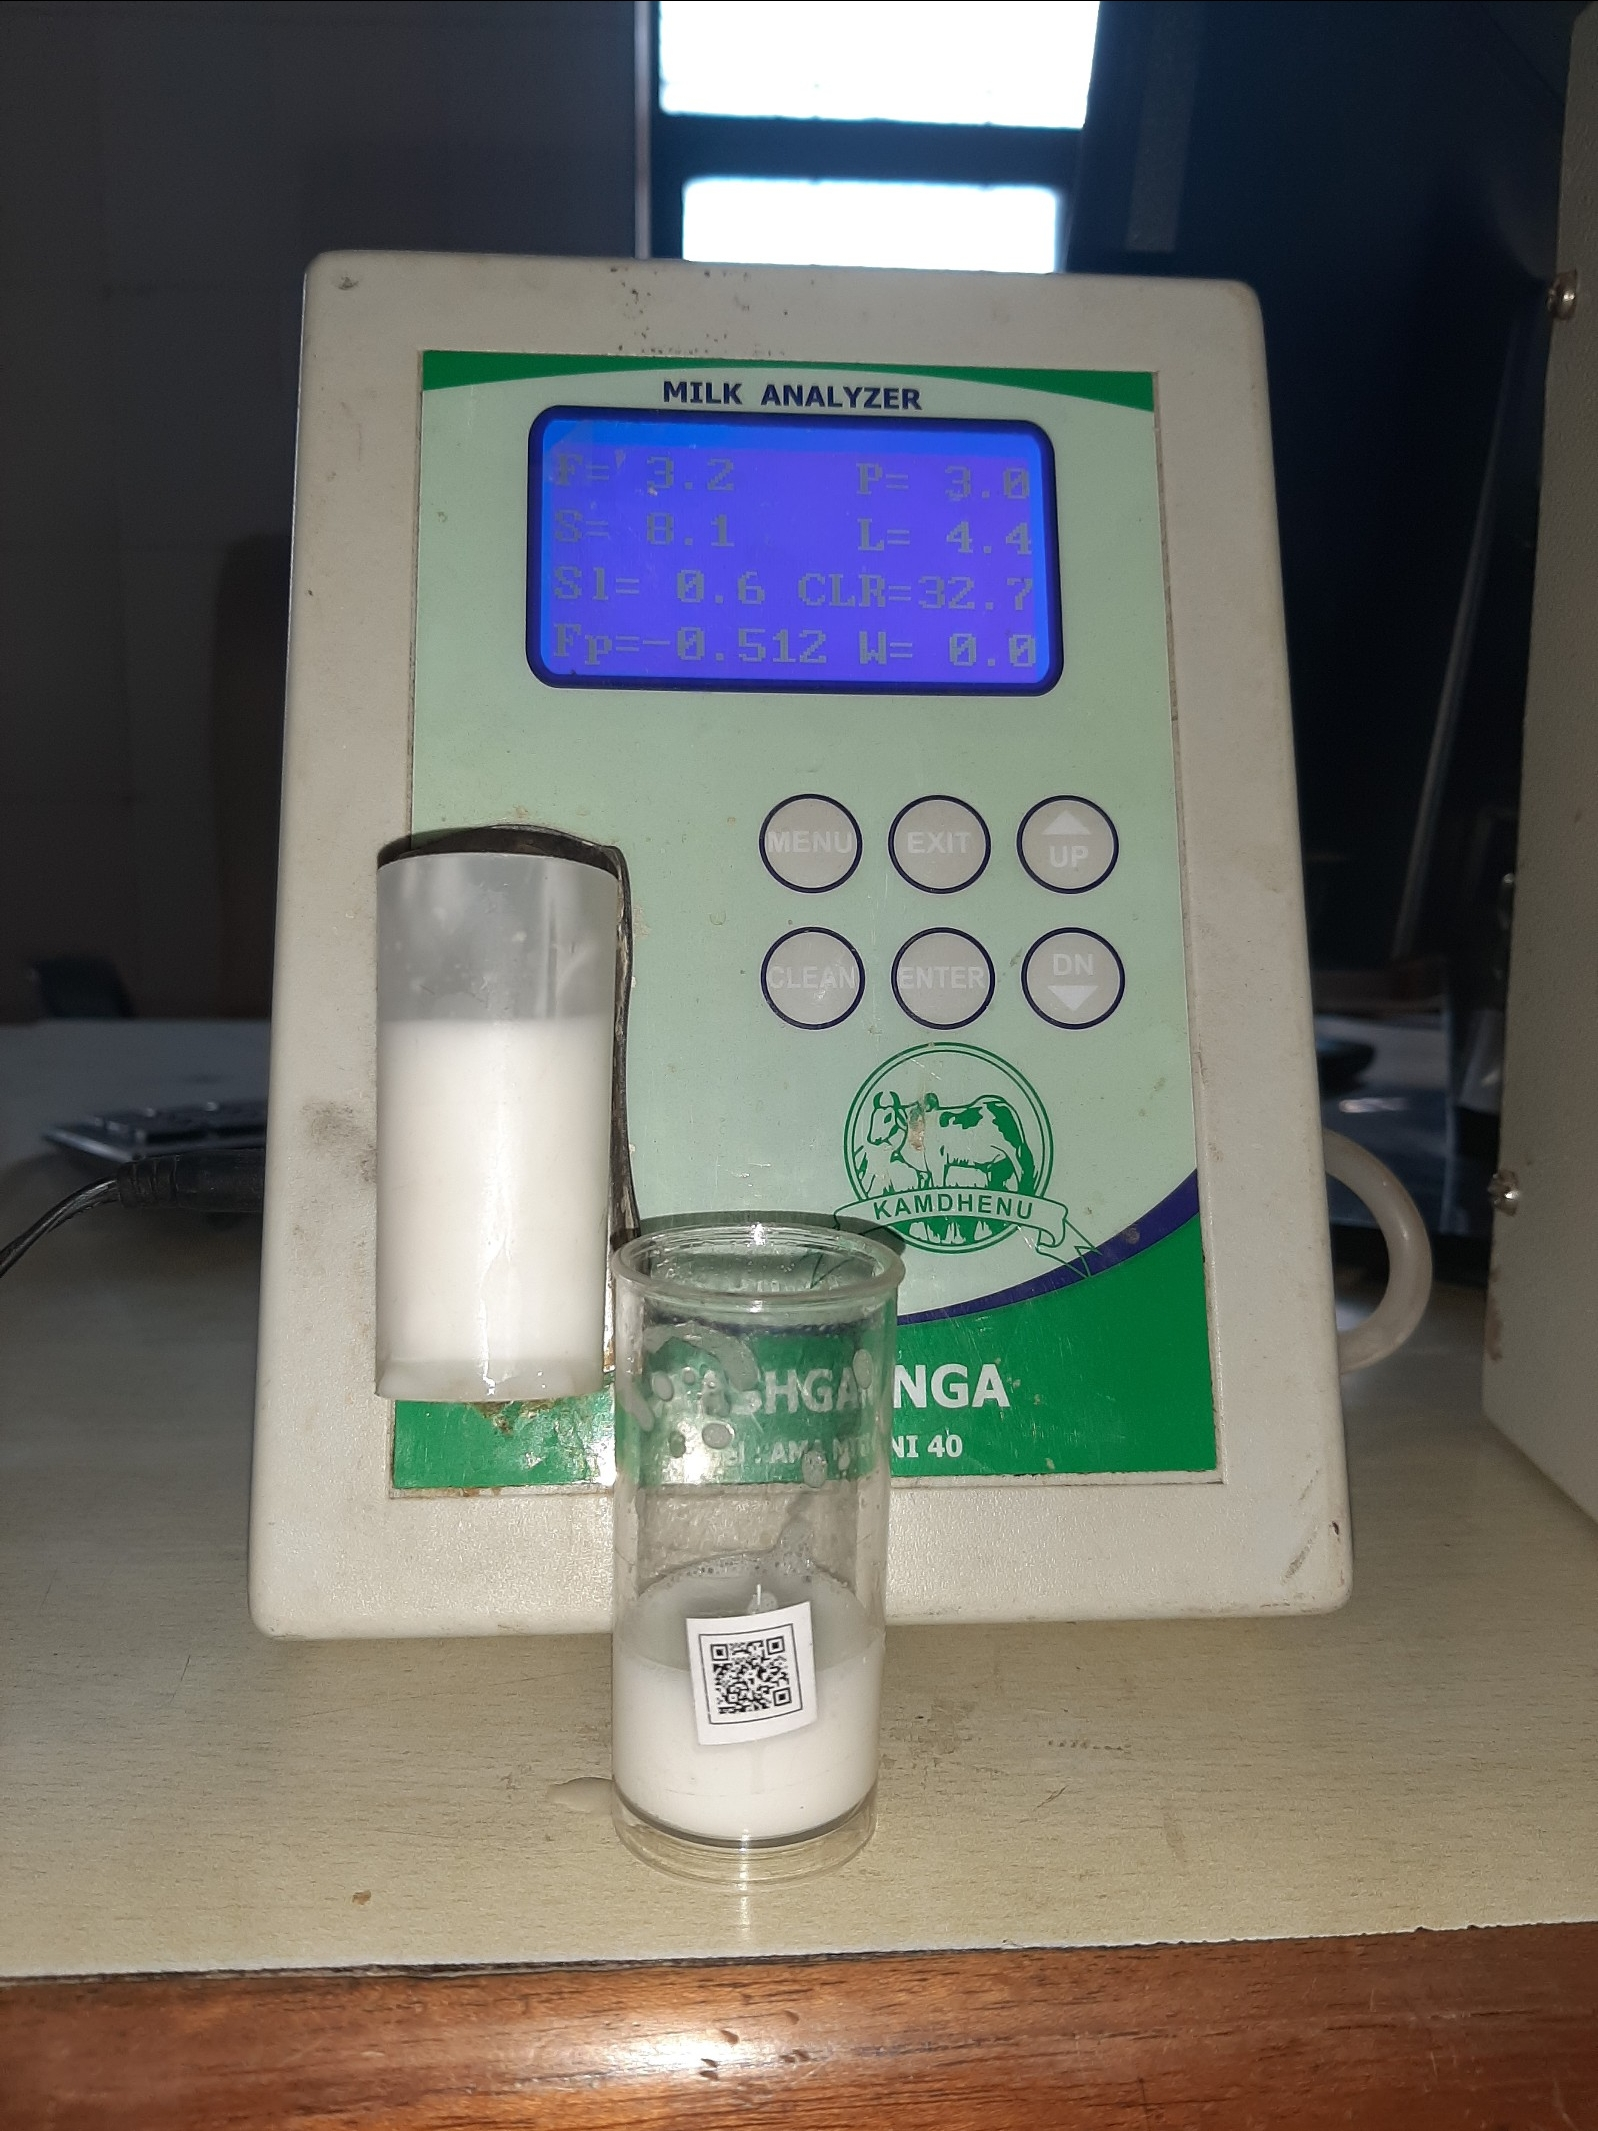lcd: (515, 394, 1098, 732)
qr: (675, 1613, 829, 1755)
